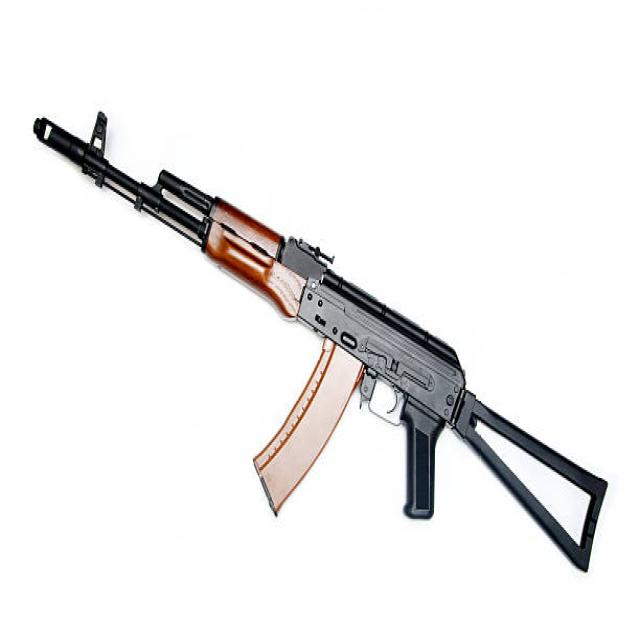rifle: (28, 103, 613, 581)
